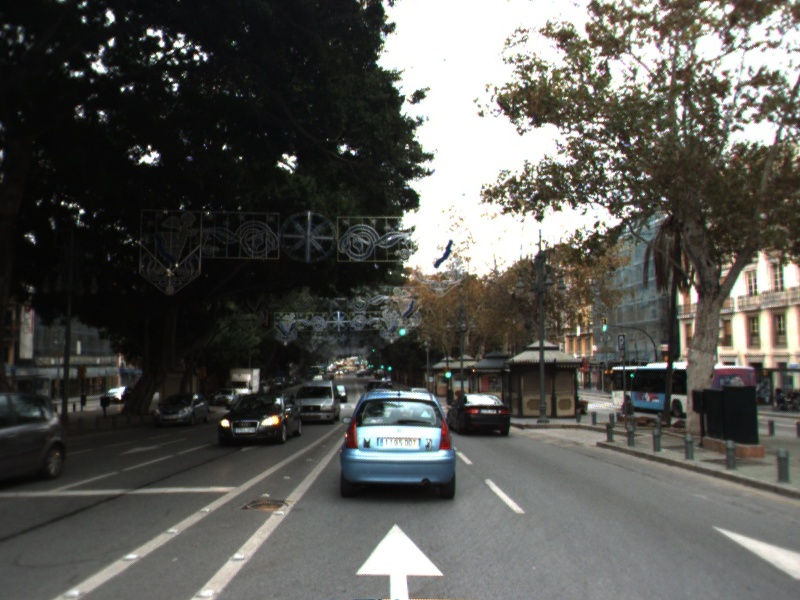STRAIGHT: (351, 519, 448, 600)
